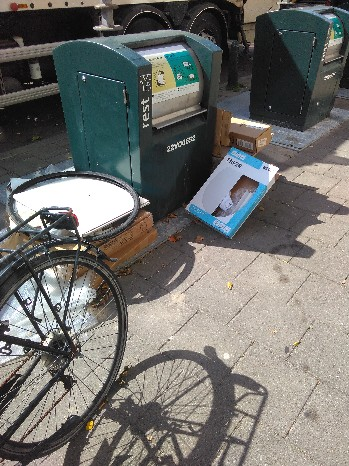Container: (72, 29, 198, 191), (259, 0, 342, 133)
Papier: (186, 145, 270, 240), (228, 110, 264, 149)
Rest: (32, 171, 143, 270)
Voertuig: (3, 233, 138, 439)
